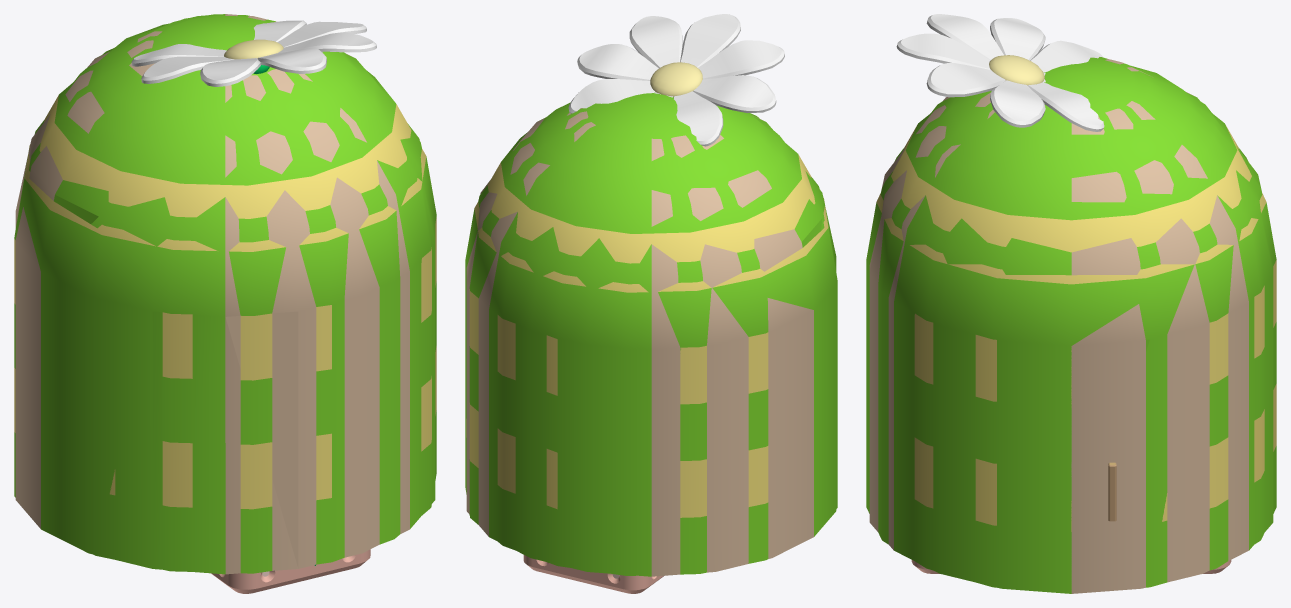
File: SC_Buzzy_Bee.fbx
3 renders of one model, left to right at view 1: azimuth 30°, elevation 25°; view 2: azimuth 150°, elevation 25°; view 3: azimuth 270°, elevation 25°, orthographic. The views are drawn at different scales.
Parts seen in each view (by area): view 1: SM_Mountain_3, SM_Mountain_2, SM_Mountain_1, SM_Daisy_3, SM_Block_2x4; view 2: SM_Mountain_3, SM_Mountain_2, SM_Mountain_1, SM_Daisy_3, SM_Block_2x4; view 3: SM_Mountain_3, SM_Mountain_2, SM_Mountain_1, SM_Daisy_3, SM_Fence_Hill.
Boxes of the visible parts, x1,y1,x2,y2 form: SM_Mountain_3: [15, 14, 435, 574]; SM_Mountain_2: [14, 15, 436, 572]; SM_Mountain_1: [14, 14, 430, 573]; SM_Daisy_3: [131, 20, 376, 86]; SM_Block_2x4: [211, 549, 370, 593]; SM_Mountain_3: [466, 106, 836, 576]; SM_Mountain_2: [465, 92, 837, 575]; SM_Mountain_1: [465, 105, 837, 575]; SM_Daisy_3: [568, 14, 784, 146]; SM_Block_2x4: [523, 555, 664, 593]; SM_Mountain_3: [869, 57, 1273, 593]; SM_Mountain_2: [866, 57, 1276, 591]; SM_Mountain_1: [866, 57, 1275, 593]; SM_Daisy_3: [896, 14, 1104, 131]; SM_Fence_Hill: [1108, 462, 1116, 521].
Size of the model in its own units: 5.05 by 6.76 by 5.
